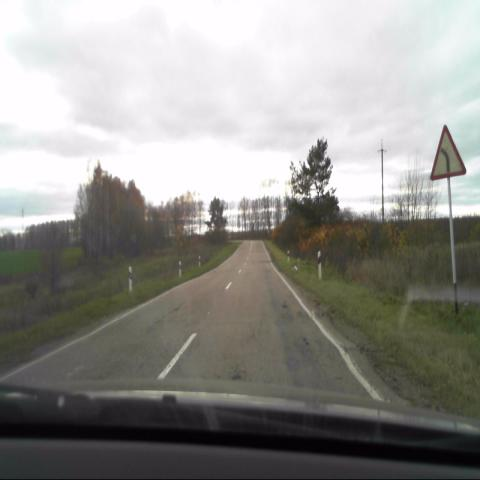1_11_1: (428, 123, 467, 181)
